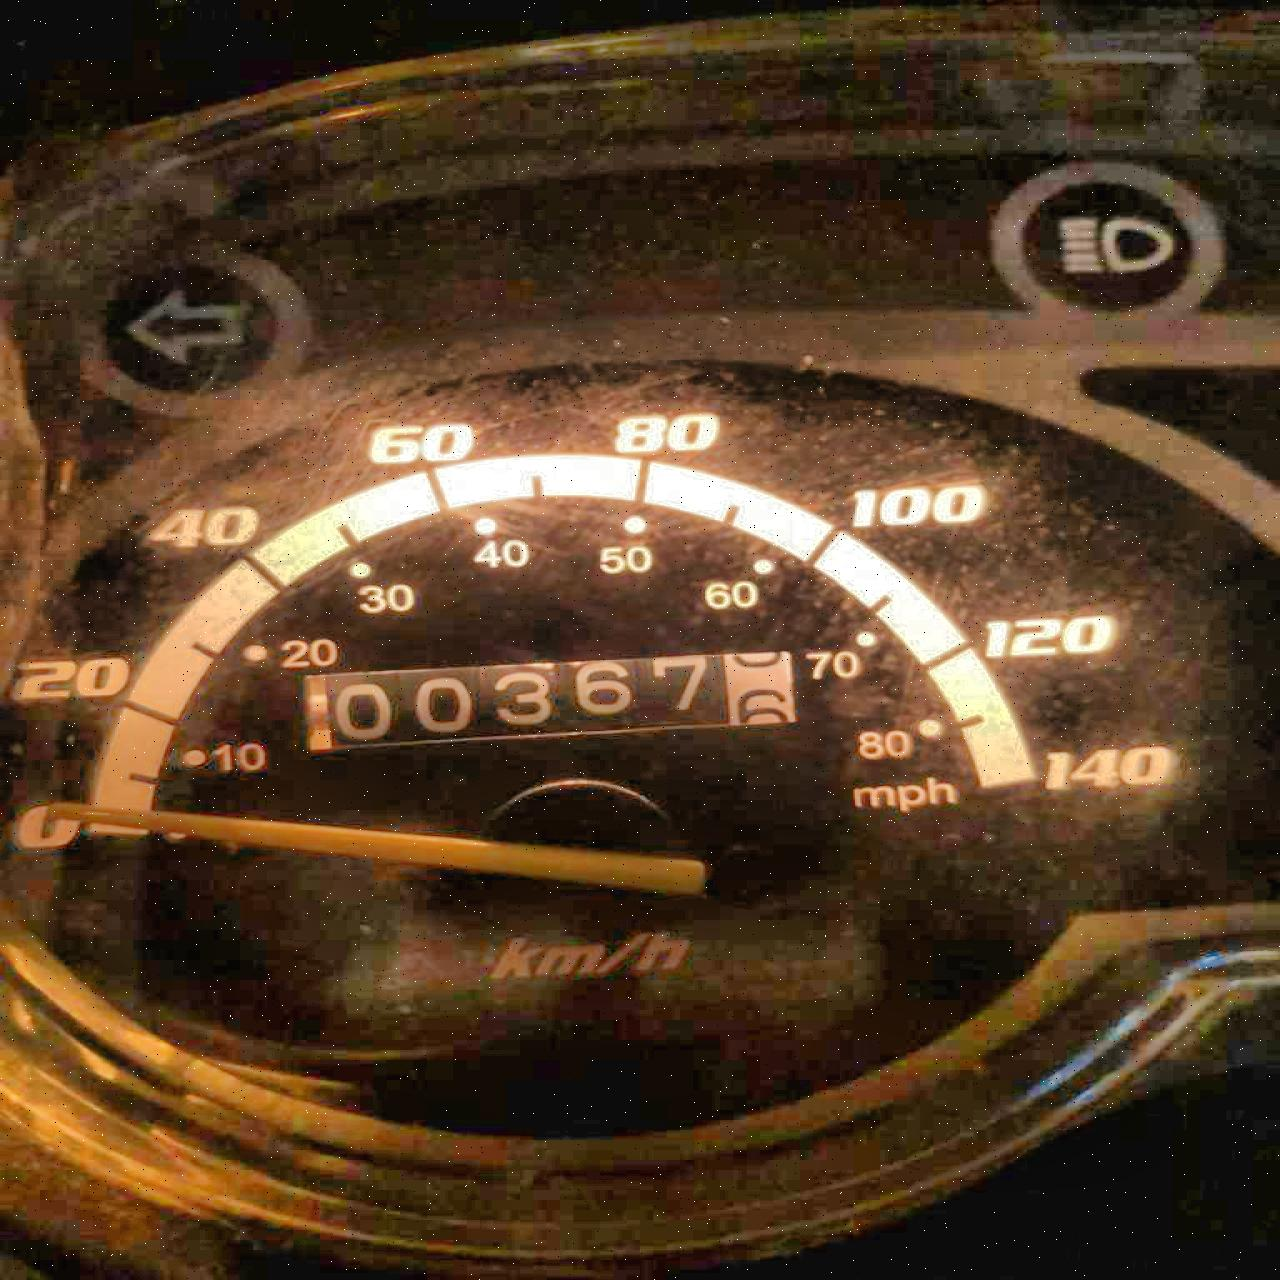0: (327, 680, 395, 741), (408, 674, 477, 734), (306, 648, 336, 666)
3: (486, 667, 556, 727)
6: (570, 658, 636, 714), (731, 683, 791, 728)
7: (647, 652, 710, 713)
odometer: (297, 649, 795, 755)
